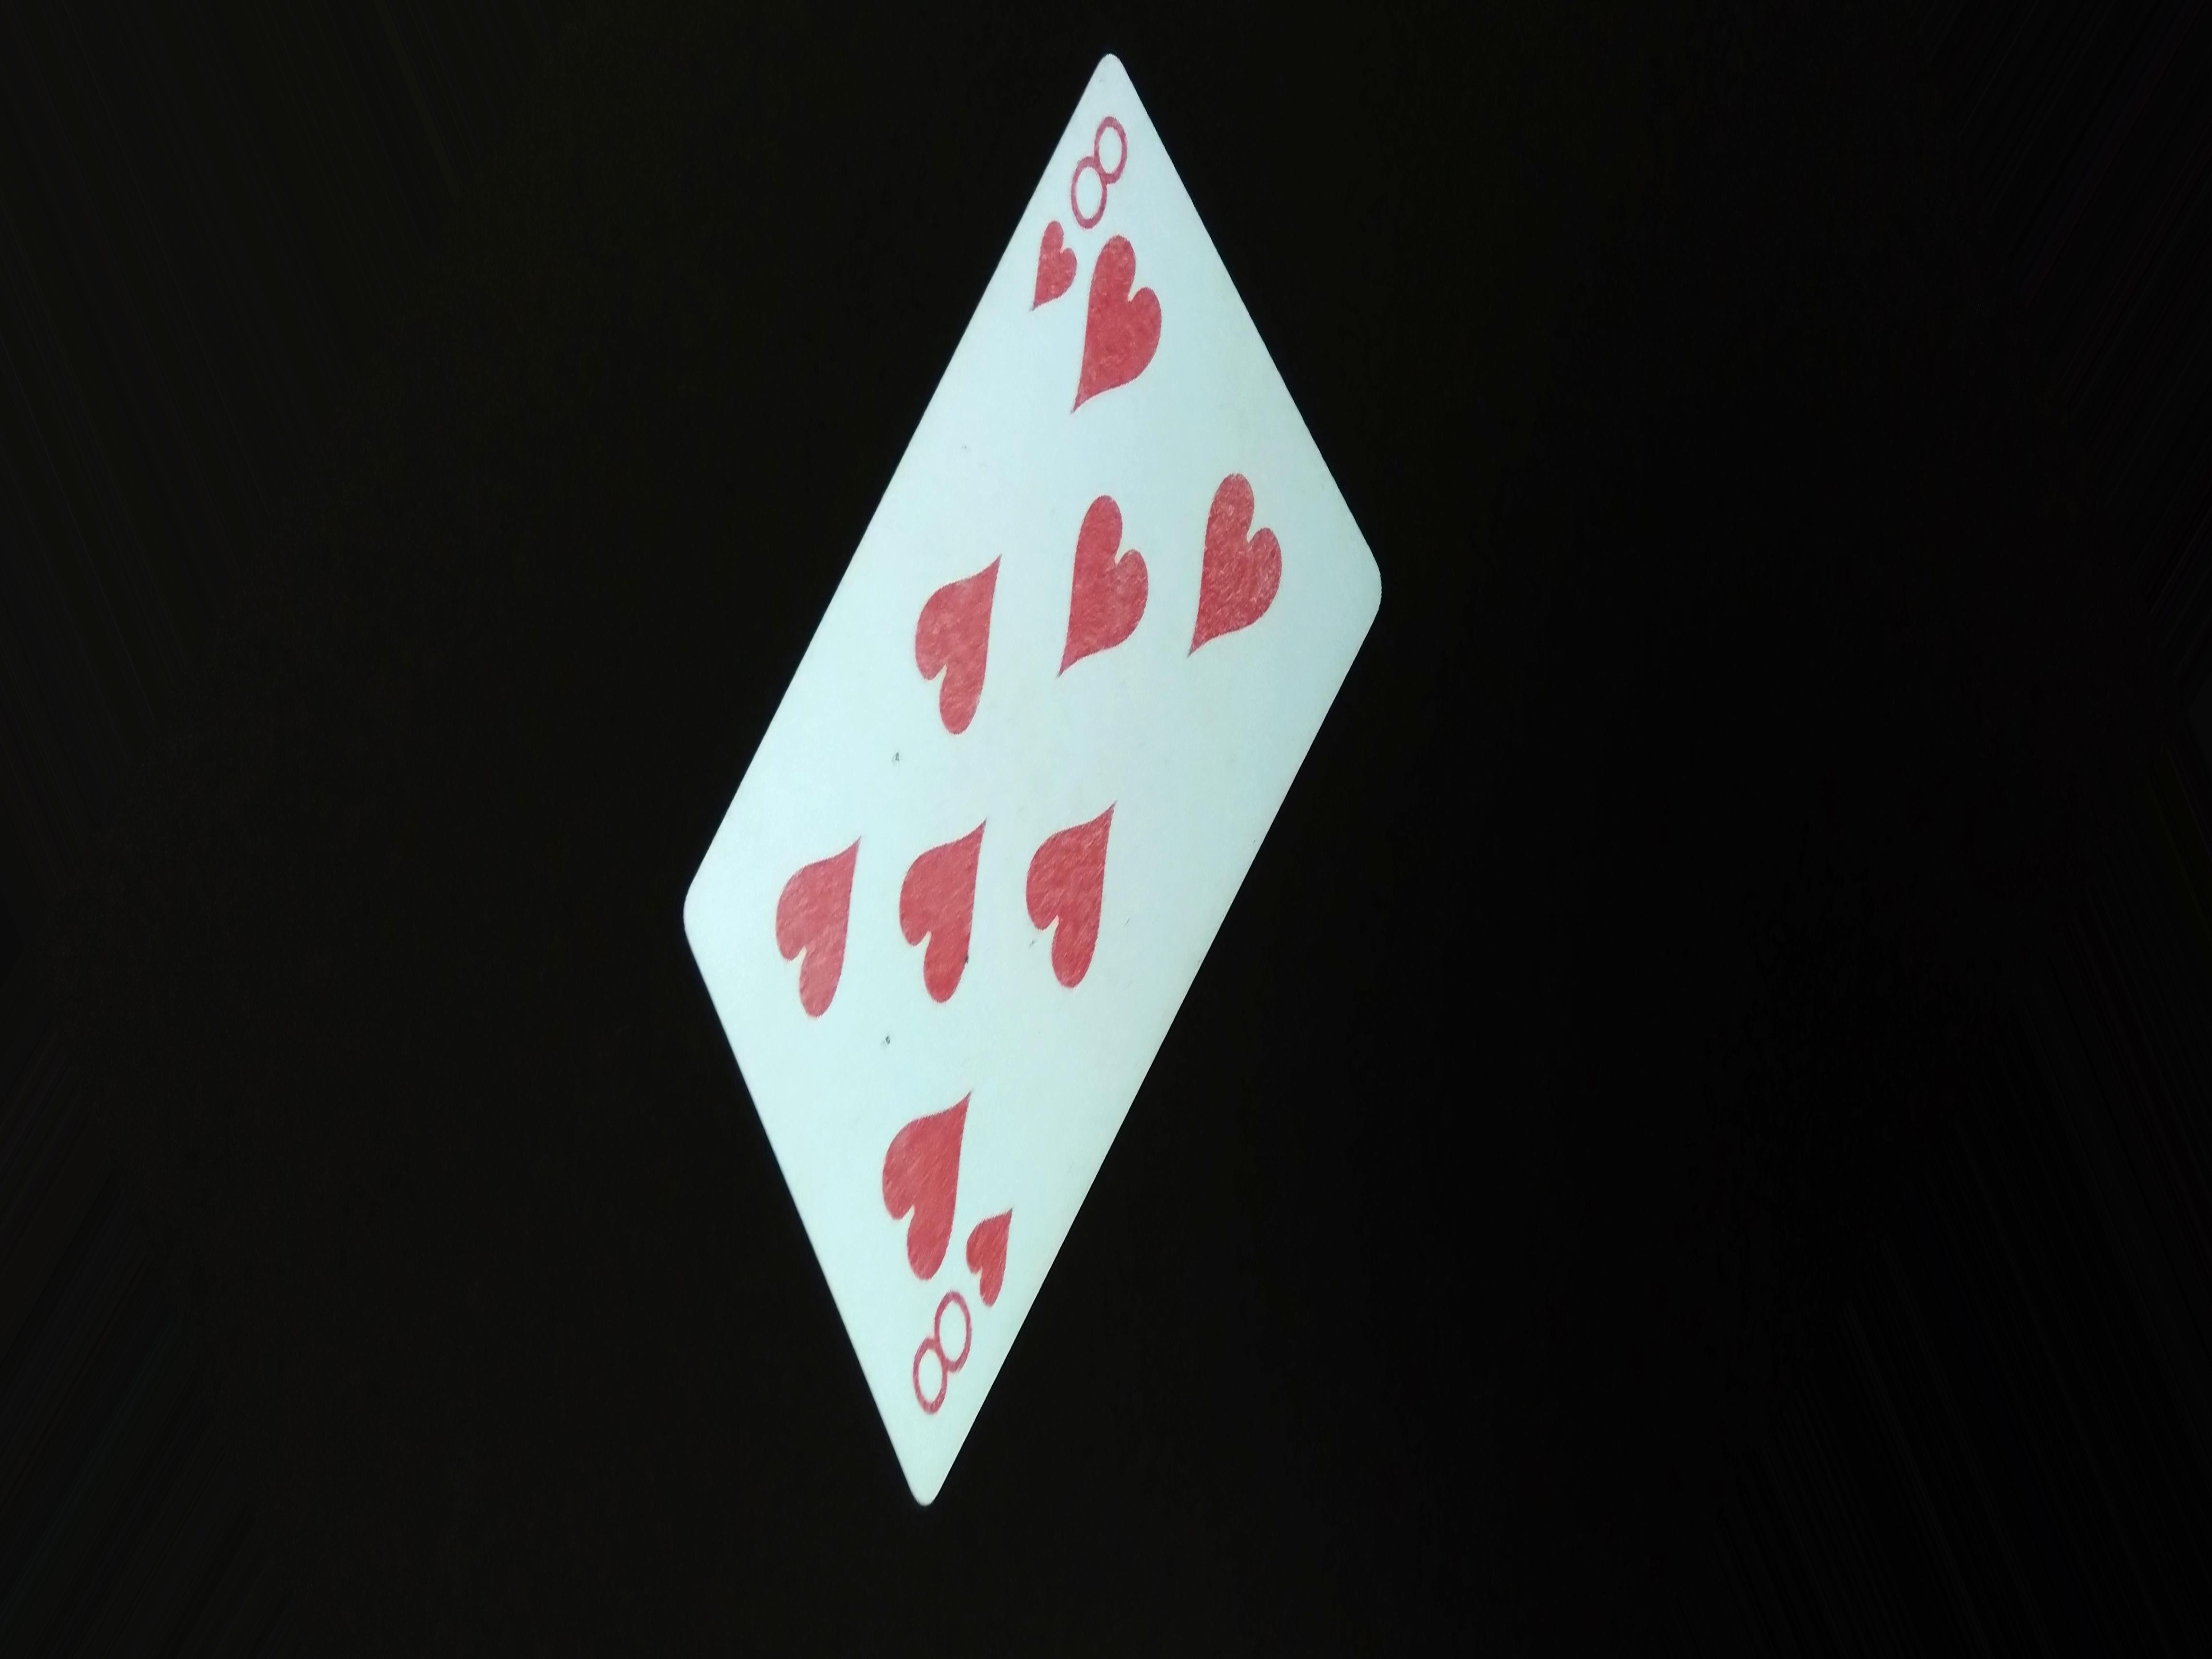8H: (916, 1194, 1017, 1438)
